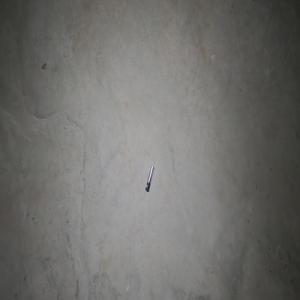Battery: (145, 165, 154, 192)
